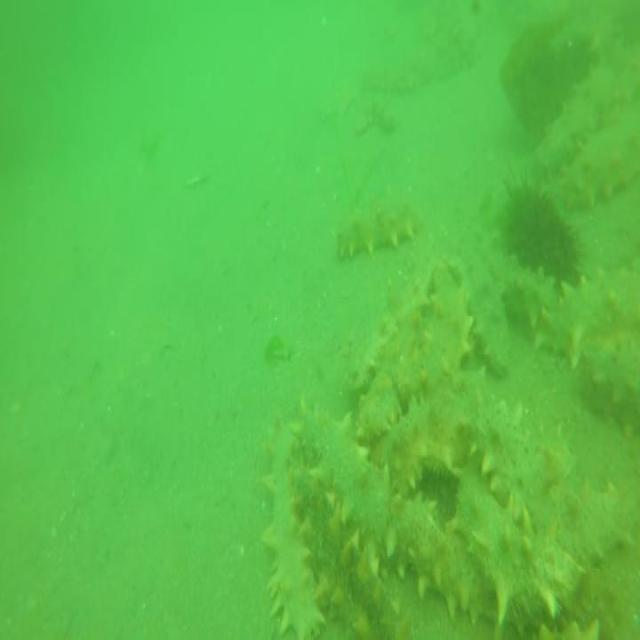echinus: (495, 166, 581, 289)
holothurian: (470, 397, 630, 570), (454, 469, 588, 626), (290, 460, 406, 640), (293, 390, 399, 568), (374, 373, 494, 501), (260, 409, 322, 640), (386, 492, 487, 622), (345, 268, 431, 404), (534, 258, 640, 364), (356, 299, 431, 447), (533, 57, 617, 174), (454, 247, 516, 379), (417, 262, 475, 395), (561, 119, 640, 208), (580, 327, 640, 433), (334, 193, 420, 265), (498, 253, 562, 330)
